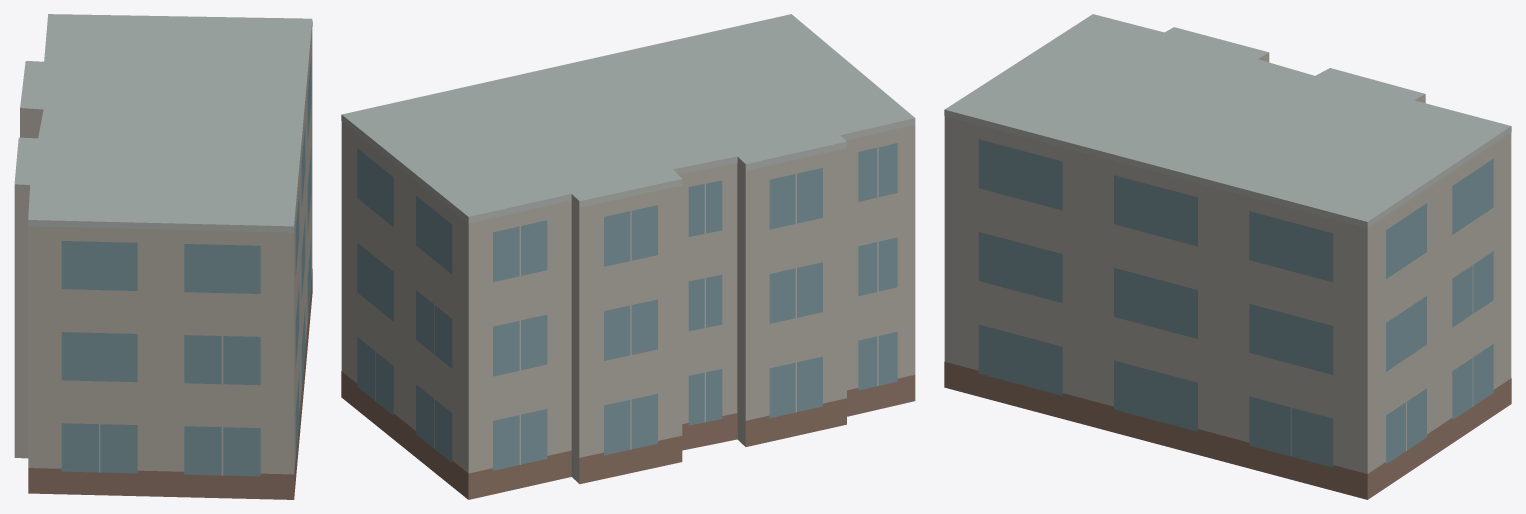
Rendered from survey-upis-32707430.glb.
The picture shows the model from 3 angles, left to right: view 1: azimuth 30°, elevation 25°; view 2: azimuth 150°, elevation 25°; view 3: azimuth 270°, elevation 25°; orthographic projection. The views are drawn at different scales.
Visible parts, largest first — view 1: survey-upis-32707430.tmp; view 2: survey-upis-32707430.tmp; view 3: survey-upis-32707430.tmp.
Boxes of the visible parts, x1=… form: survey-upis-32707430.tmp: x1=14, y1=14, x2=312, y2=499; survey-upis-32707430.tmp: x1=341, y1=14, x2=915, y2=499; survey-upis-32707430.tmp: x1=944, y1=14, x2=1511, y2=499.
Bounding box in the file's own units: 16.96 × 10.56 × 19.53.
